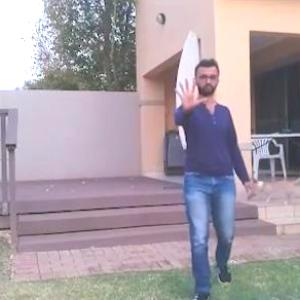follow_hand: (170, 71, 209, 116)
